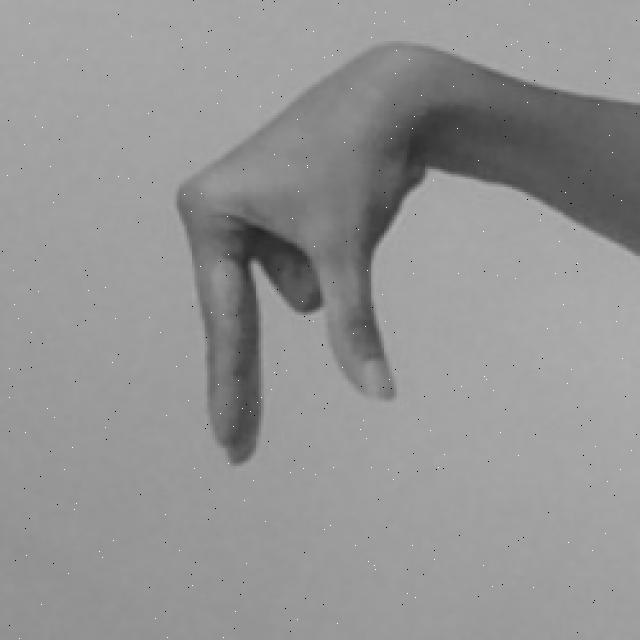Q: (168, 35, 640, 474)
